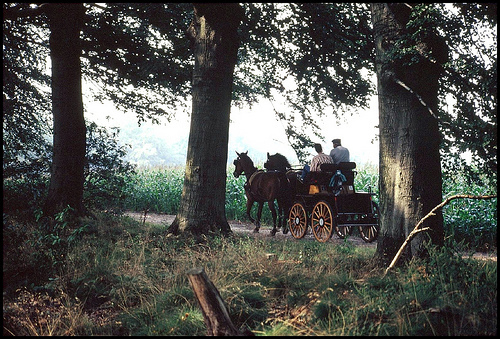horse: (232, 149, 293, 237), (263, 150, 307, 235)
